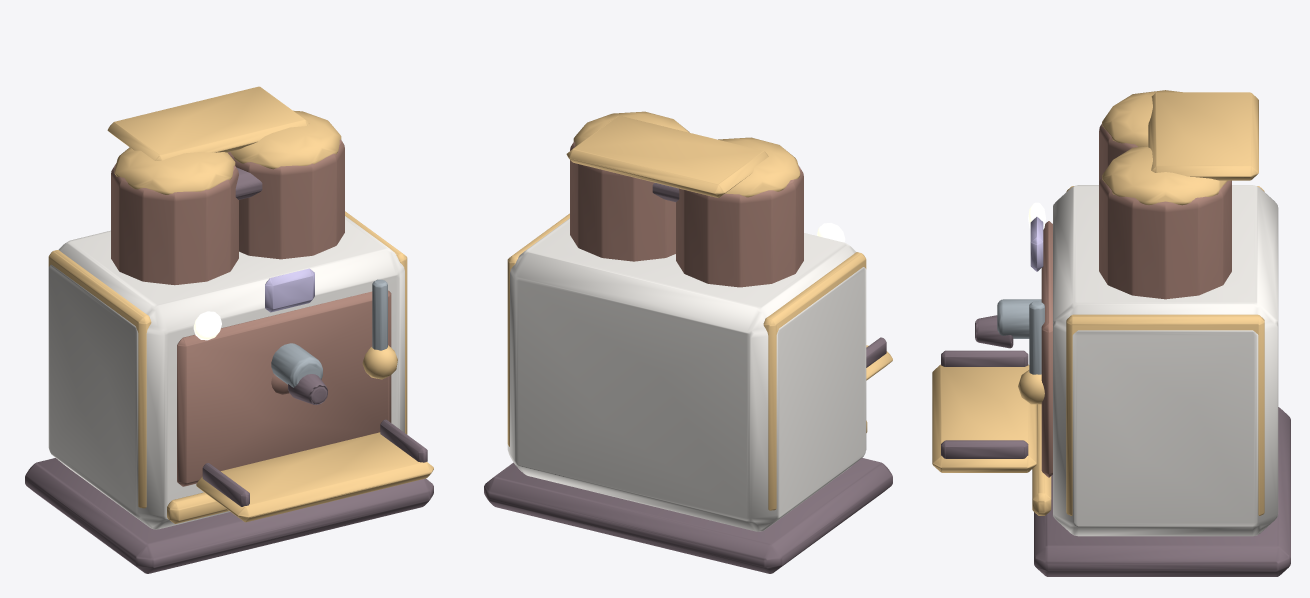
File: machine_chocolate.glb
The picture shows the model from 3 angles, left to right: view 1: azimuth 30°, elevation 25°; view 2: azimuth 150°, elevation 25°; view 3: azimuth 270°, elevation 25°; orthographic projection. The views are drawn at different scales.
Visible parts, largest first — view 1: Machine_Chocolate_Body, Machine_Chocolate_FlavorPanel, Machine_Chocolate_Base, Machine_Chocolate_TwinTank_L, Machine_Chocolate_RemovableOutputTray, Machine_Chocolate_TwinTank_R, Machine_Chocolate_Hatch, Machine_Chocolate_TankCap_L, Machine_Chocolate_L2_Rail_Left, Machine_Chocolate_TankCap_R, Machine_Chocolate_L3_Badge, Machine_Chocolate_NozzleNeck (+9 smaller); view 2: Machine_Chocolate_Body, Machine_Chocolate_Base, Machine_Chocolate_TwinTank_L, Machine_Chocolate_Hatch, Machine_Chocolate_TwinTank_R, Machine_Chocolate_L2_Rail_Left, Machine_Chocolate_TankCap_L, Machine_Chocolate_TankCap_R, Machine_Chocolate_L2_Rail_Right; view 3: Machine_Chocolate_Body, Machine_Chocolate_Base, Machine_Chocolate_TwinTank_R, Machine_Chocolate_Hatch, Machine_Chocolate_RemovableOutputTray, Machine_Chocolate_L2_Rail_Right, Machine_Chocolate_TankCap_R, Machine_Chocolate_FlavorPanel, Machine_Chocolate_TankCap_L, Machine_Chocolate_TrayRail_R, Machine_Chocolate_TrayRail_L, Machine_Chocolate_NozzleNeck (+6 smaller).
Part boxes in pixels (x1,y1,x2,y2): Machine_Chocolate_Body: [48, 216, 404, 529]; Machine_Chocolate_FlavorPanel: [177, 290, 391, 486]; Machine_Chocolate_Base: [25, 458, 433, 573]; Machine_Chocolate_TwinTank_L: [111, 163, 238, 285]; Machine_Chocolate_RemovableOutputTray: [196, 432, 433, 522]; Machine_Chocolate_TwinTank_R: [227, 139, 344, 259]; Machine_Chocolate_Hatch: [107, 86, 309, 160]; Machine_Chocolate_TankCap_L: [114, 147, 235, 194]; Machine_Chocolate_L2_Rail_Left: [48, 250, 151, 508]; Machine_Chocolate_TankCap_R: [230, 110, 341, 169]; Machine_Chocolate_L3_Badge: [265, 268, 314, 312]; Machine_Chocolate_NozzleNeck: [271, 343, 322, 387]; Machine_Chocolate_Body: [507, 218, 866, 531]; Machine_Chocolate_Base: [484, 458, 892, 573]; Machine_Chocolate_TwinTank_L: [676, 165, 803, 287]; Machine_Chocolate_Hatch: [566, 115, 768, 197]; Machine_Chocolate_TwinTank_R: [570, 142, 675, 261]; Machine_Chocolate_L2_Rail_Left: [763, 252, 866, 510]; Machine_Chocolate_TankCap_L: [718, 137, 800, 197]; Machine_Chocolate_TankCap_R: [573, 111, 689, 146]; Machine_Chocolate_L2_Rail_Right: [507, 213, 569, 446]; Machine_Chocolate_Body: [1053, 185, 1278, 536]; Machine_Chocolate_Base: [1034, 407, 1290, 576]; Machine_Chocolate_TwinTank_R: [1099, 177, 1231, 299]; Machine_Chocolate_Hatch: [1148, 92, 1258, 180]; Machine_Chocolate_RemovableOutputTray: [932, 364, 1036, 472]; Machine_Chocolate_L2_Rail_Right: [1066, 314, 1264, 515]; Machine_Chocolate_TankCap_R: [1102, 146, 1227, 205]; Machine_Chocolate_FlavorPanel: [1041, 221, 1052, 477]; Machine_Chocolate_TankCap_L: [1102, 90, 1182, 146]; Machine_Chocolate_TrayRail_R: [941, 440, 1028, 458]; Machine_Chocolate_TrayRail_L: [941, 350, 1028, 366]; Machine_Chocolate_NozzleNeck: [997, 299, 1041, 338].
Bounding box in the file's own units: 2.28 × 2.9 × 2.29.
